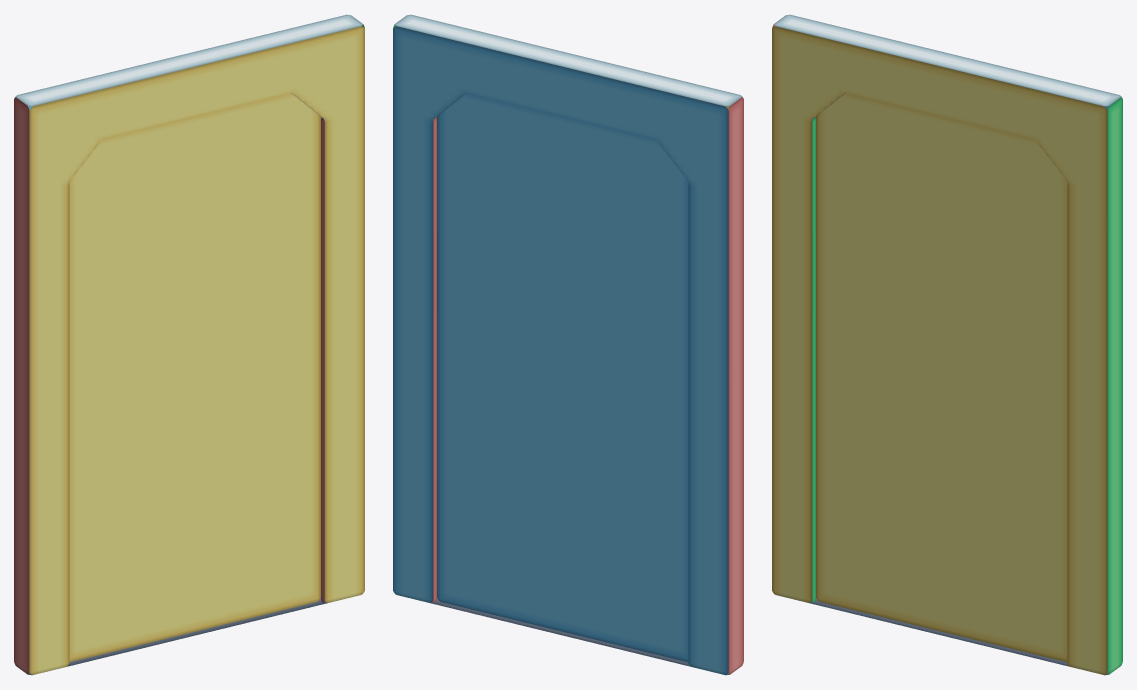
Rendered from door.obj.
3 renders of one model, left to right at view 1: azimuth 30°, elevation 25°; view 2: azimuth 150°, elevation 25°; view 3: azimuth 330°, elevation 25°, orthographic.
Parts seen in each view (by area): view 1: body; view 2: body; view 3: body.
Part boxes in pixels (<box>): body: <box>14,14,364,675</box>; body: <box>393,14,743,675</box>; body: <box>772,14,1122,675</box>.
Size of the model in its own units: 1.56 by 2.53 by 0.125.
1 material, 1 textured.
